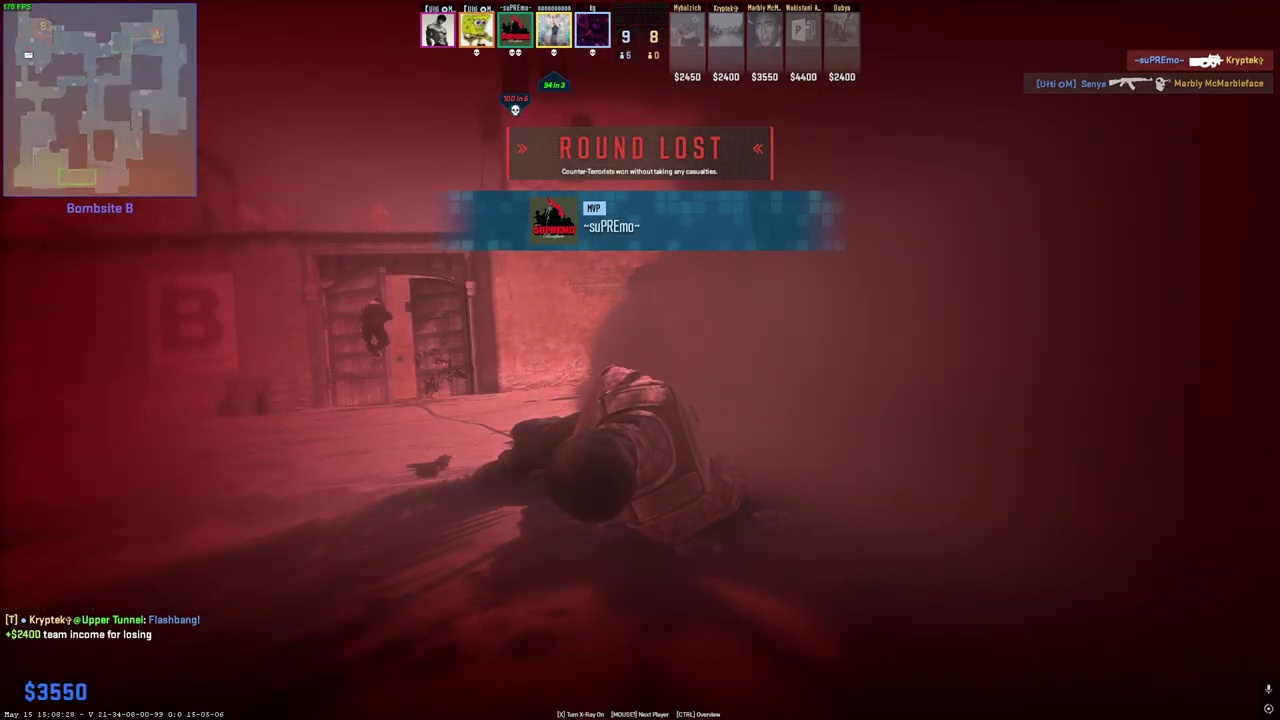CT: (362, 296, 391, 357)
